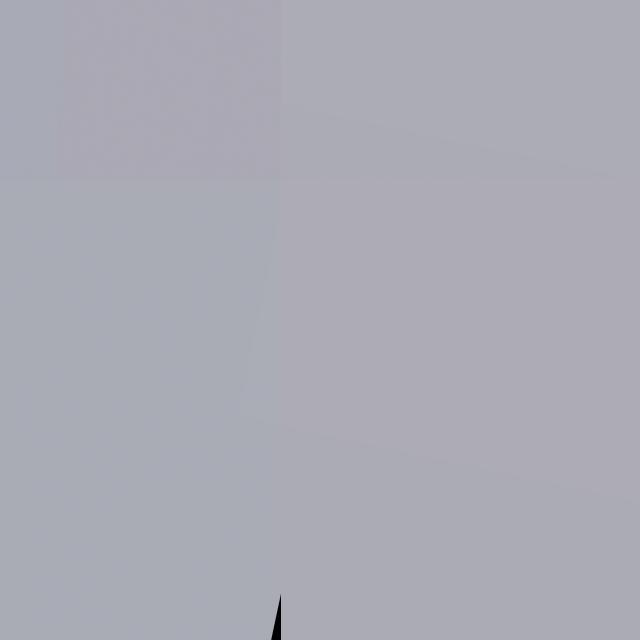drone: (0, 0, 281, 179)
